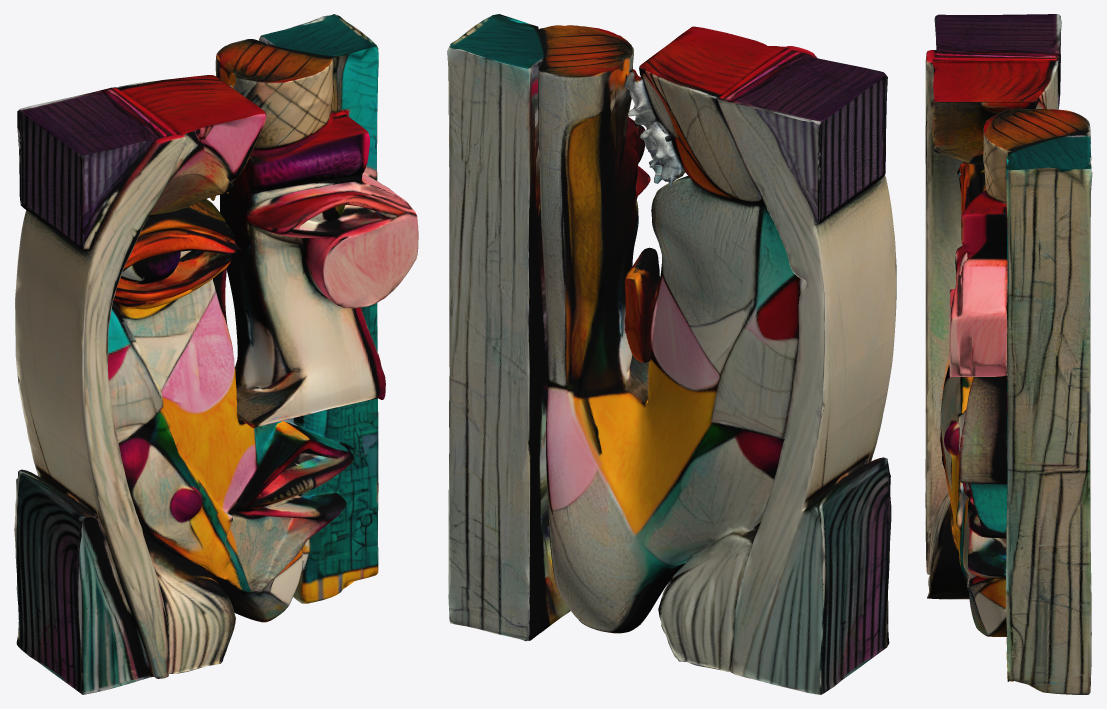
The model's file is the-woman-beauty-picassoglb.glb.
3 views of the same model, side by side, from view 1: azimuth 30°, elevation 25°; view 2: azimuth 150°, elevation 25°; view 3: azimuth 270°, elevation 25° (orthographic). The views are drawn at different scales.
Visible parts, largest first — view 1: geometry_0; view 2: geometry_0; view 3: geometry_0.
Boxes of the visible parts, x1,y1,x2,y2 form: geometry_0: (14, 14, 418, 694); geometry_0: (447, 14, 896, 694); geometry_0: (925, 14, 1092, 694).
Size of the model in its own units: 1.27 by 1.9 by 0.5448.
Materials: 1 (1 with a texture image).
